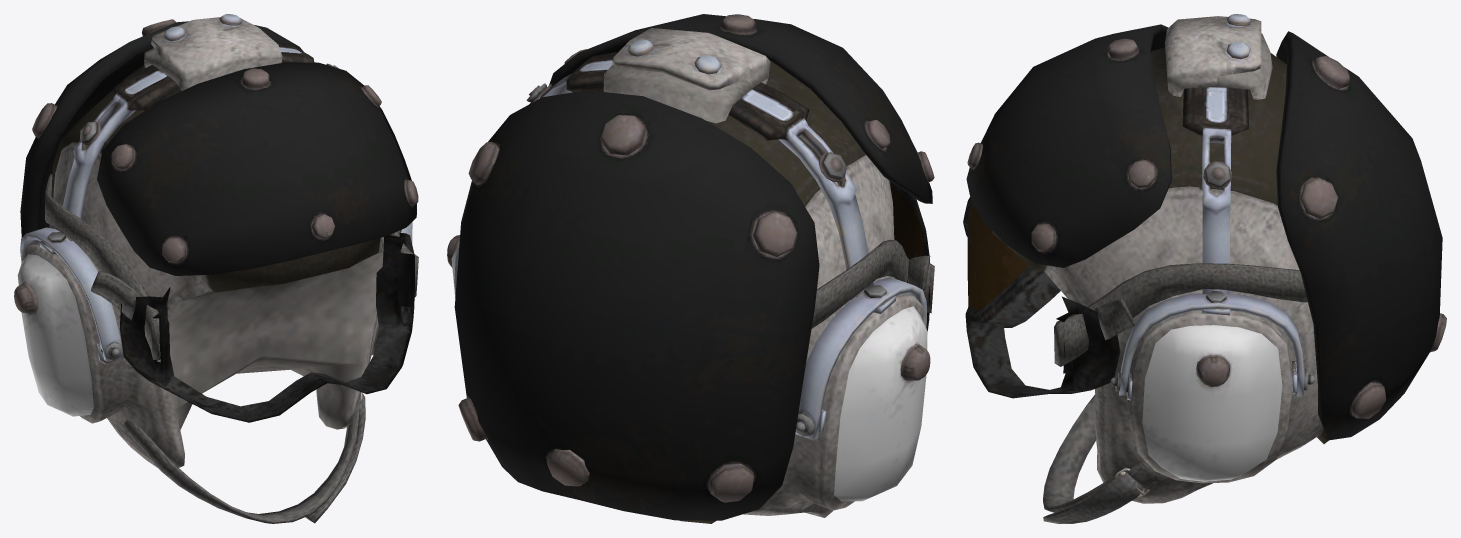
File: SurvivorMale_Head_Helmet_Aviator_LOD0.glb
3 views of the same model, side by side, from view 1: azimuth 30°, elevation 25°; view 2: azimuth 150°, elevation 25°; view 3: azimuth 270°, elevation 25° (orthographic). The views are drawn at different scales.
Visible parts, largest first — view 1: Hoodie; view 2: Hoodie; view 3: Hoodie.
Part boxes in pixels (x1,y1,x2,y2): Hoodie: (14,14,418,523); Hoodie: (447,14,934,523); Hoodie: (963,14,1446,523).
Size of the model in its own units: 0.266 by 0.2872 by 0.2614.
Materials: 1 (1 with a texture image).
